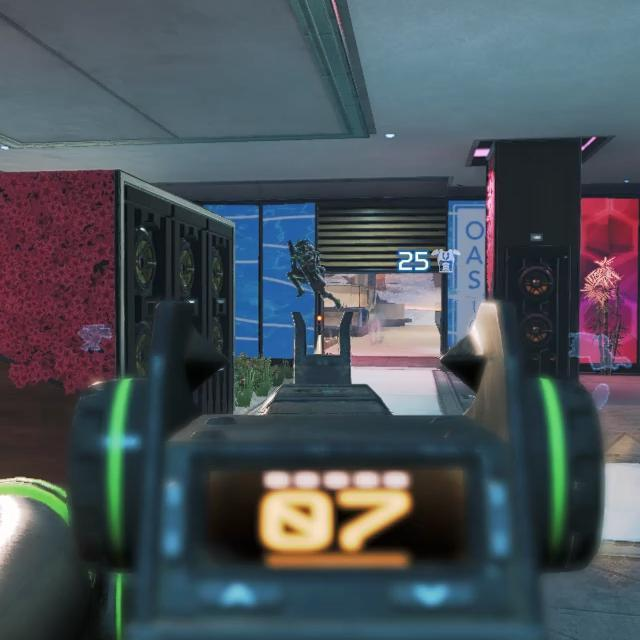avatar: (284, 236, 329, 303)
